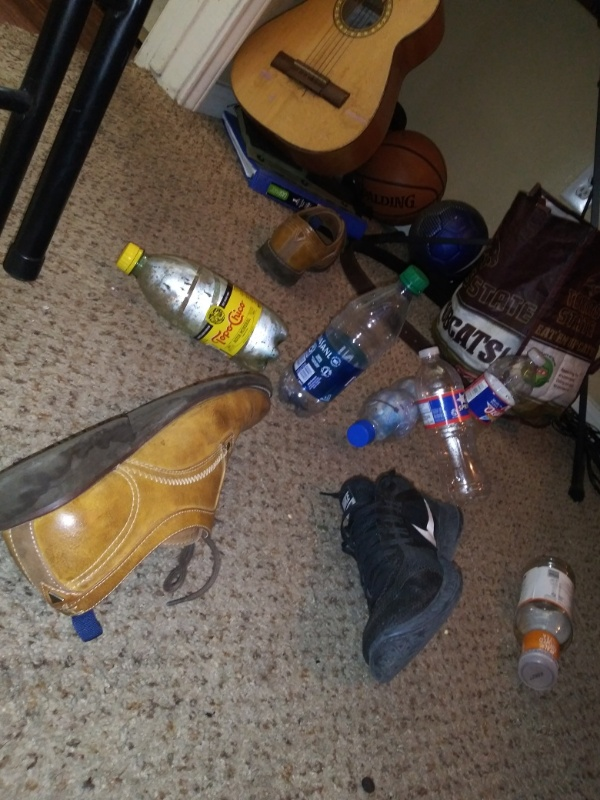bottle: (112, 240, 292, 381), (279, 266, 431, 421), (412, 340, 499, 509), (511, 549, 582, 699), (456, 346, 552, 440), (342, 368, 450, 450)
